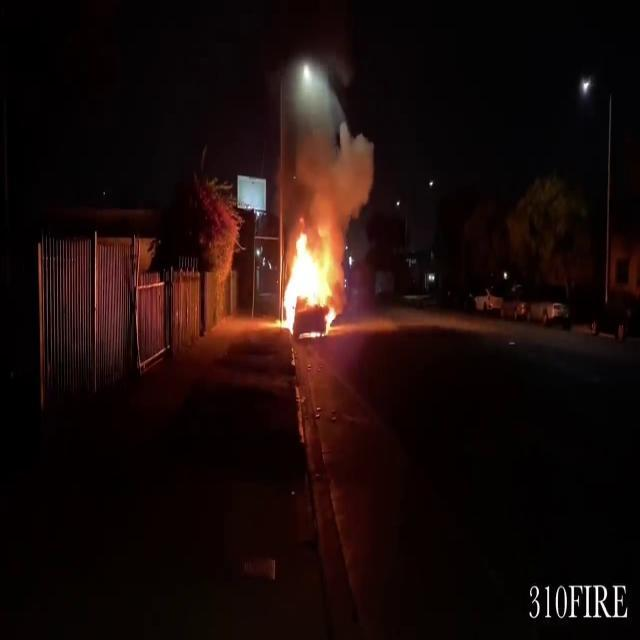Fire: (276, 222, 342, 338)
Smoke: (283, 102, 379, 231)
